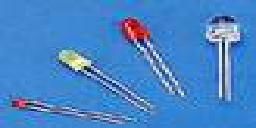LED: (121, 14, 190, 108), (57, 47, 135, 101), (202, 13, 240, 104), (6, 99, 117, 128)
